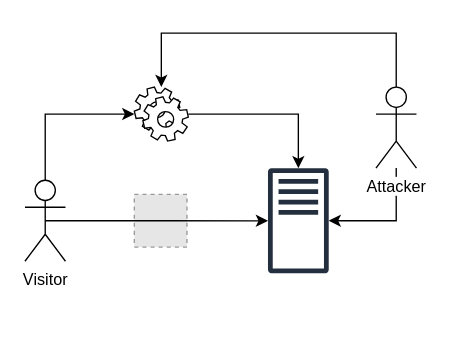
The diagram is 450 pixels wide and 346 high, and some of its shapes have lost their labels. Grey dashed boxes stand in for pictures. Each missing label, with the centre of its shape:
"compromised server" belongs at point (297, 220).
"Cryptojacking" belongs at point (160, 113).
